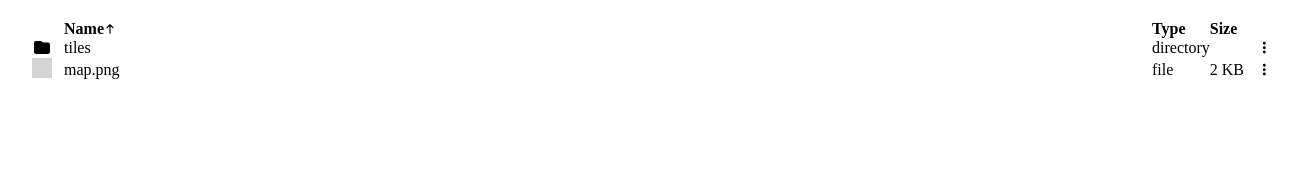
Scenario: DirectoryTable › closes the previously open menu when a second entry's menu is opened
This screenshot has width=1292, height=172.
Press the mouse on the row "tiles": (1181, 48) left=20, top=38, right=1284, bottom=58
Right-click the row "tiles": (1181, 48) left=20, top=38, right=1284, bottom=58
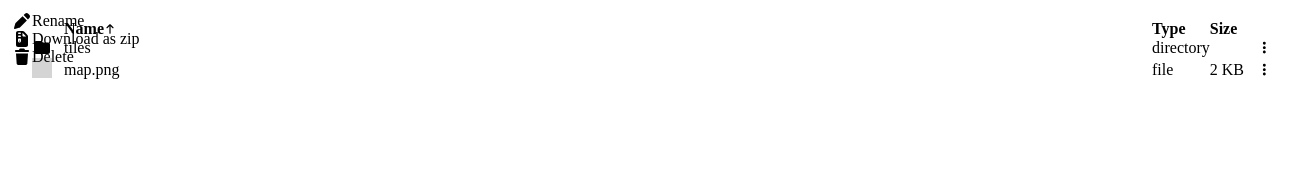
expect the menu is shown: met, box left=12, top=12, right=172, bottom=66
Press the mouse on the text "map.png": (652, 70) left=20, top=58, right=1284, bottom=82
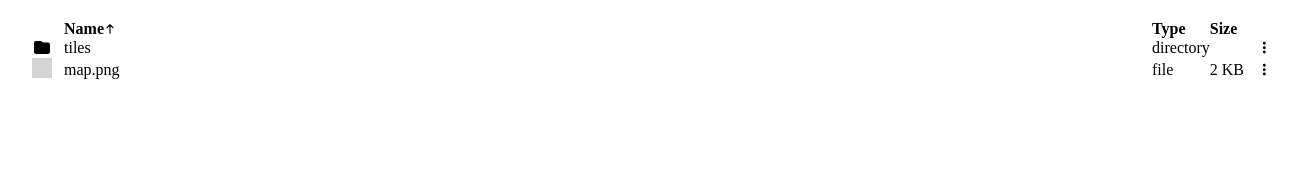
Right-click the text "map.png": (652, 70) left=20, top=58, right=1284, bottom=82
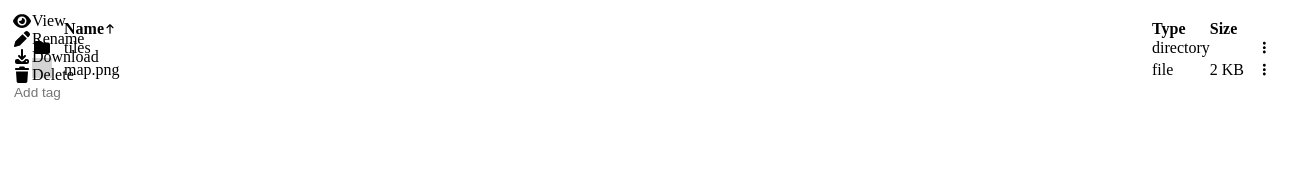
expect the number of menus is 1: met, box left=12, top=12, right=193, bottom=101
